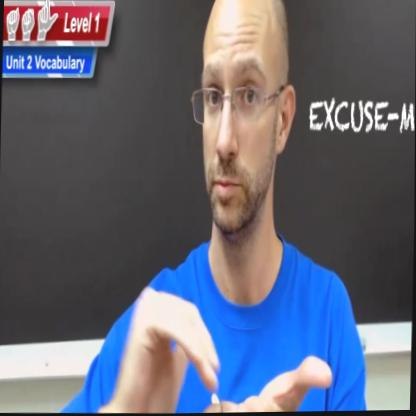ExcuseMe: (109, 256, 348, 415)
